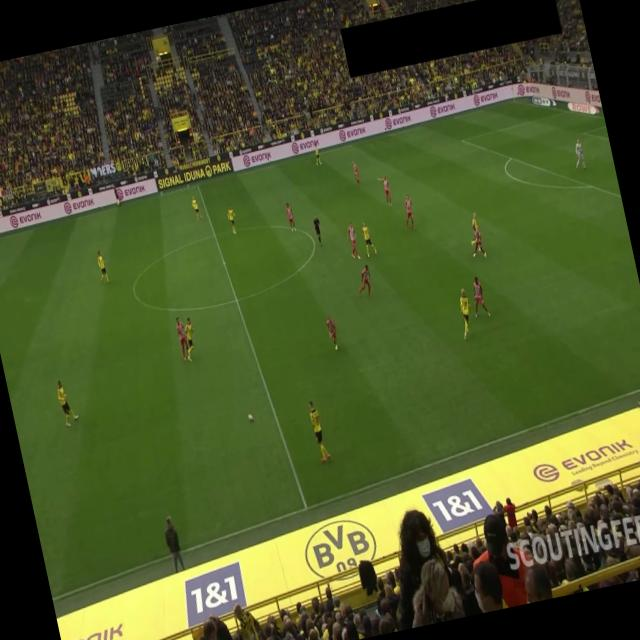ball: (247, 412, 254, 422)
goalkeeper: (569, 138, 586, 172)
player: (306, 398, 332, 462), (54, 377, 80, 427), (454, 286, 477, 340), (467, 274, 491, 319), (180, 316, 200, 362), (174, 314, 192, 361), (466, 222, 486, 260), (398, 192, 417, 232), (353, 264, 375, 298), (360, 219, 378, 258), (344, 220, 361, 260), (94, 248, 110, 284), (324, 314, 340, 349), (224, 203, 238, 234), (381, 174, 393, 206), (284, 200, 296, 232), (190, 193, 203, 220), (351, 160, 361, 185), (312, 144, 322, 165)
referee: (310, 211, 324, 246), (112, 182, 124, 210)
